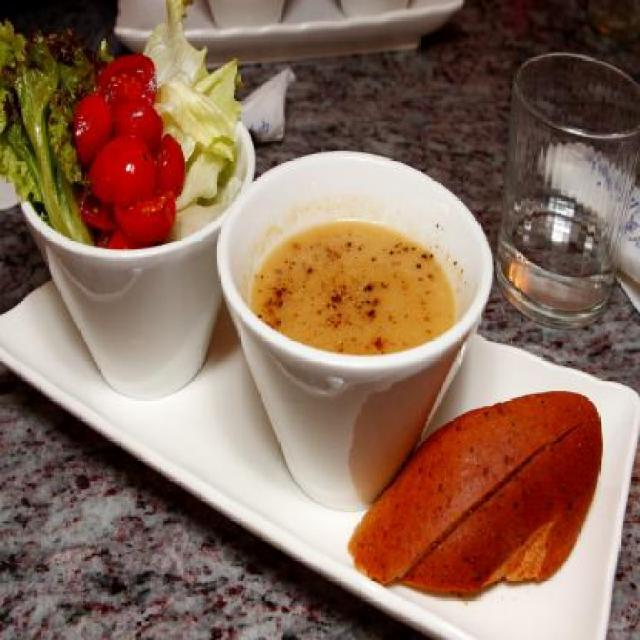Salad: (0, 0, 258, 260)
